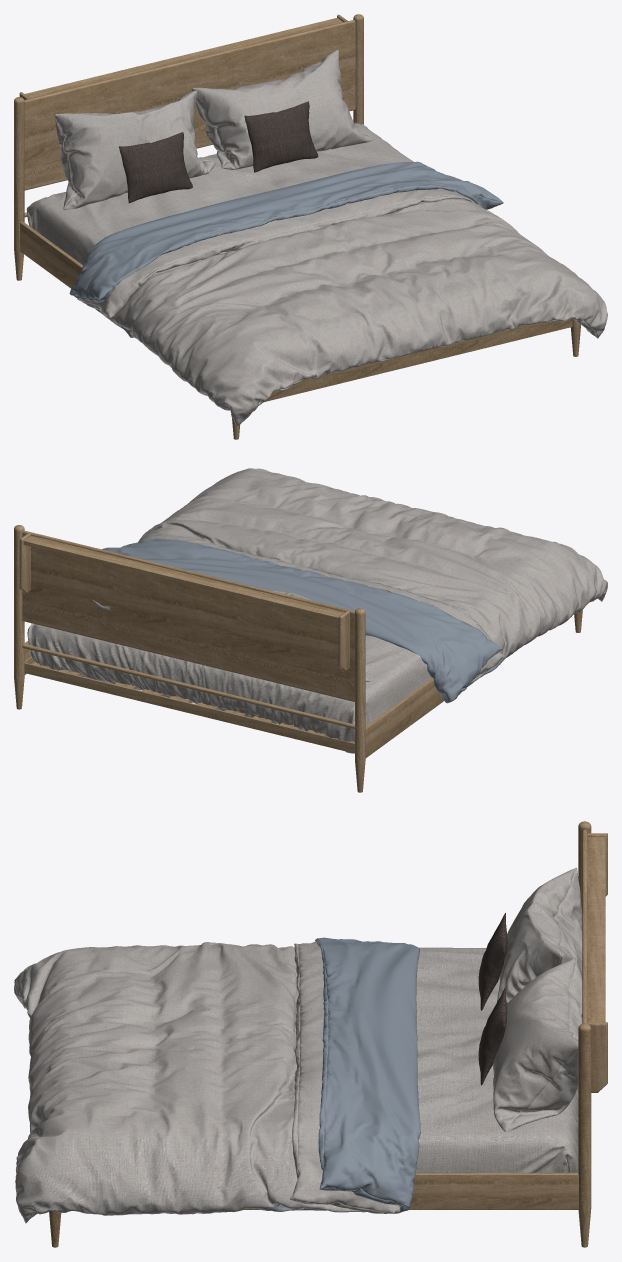
The model's file is BED-002.glb.
3 views of the same model, one above another, from view 1: azimuth 30°, elevation 25°; view 2: azimuth 150°, elevation 25°; view 3: azimuth 270°, elevation 25° (orthographic). The views are drawn at different scales.
Parts seen in each view (by area): view 1: Mesh1_Material__300w_0, Mesh2____SING________QQ___469733580___173_14_0, Mesh1_Material__611_0, Mesh5____SING________QQ___469733580___173_14_0, Mesh53_Material_1_0, Mesh52_Material_1_0, Mesh9____SING________QQ___469733580___173_14_0, Mesh3____SING________QQ___469733580___173_14_0, Mesh35____SING________QQ___469733580___173_14_0, Mesh34____SING________QQ___469733580___173_14_0; view 2: Mesh1_Material__300w_0, Mesh2____SING________QQ___469733580___173_14_0, Mesh1_Material__611_0, Mesh11____SING________QQ___469733580___173_14_0, Mesh9____SING________QQ___469733580___173_14_0, Mesh3____SING________QQ___469733580___173_14_0, Mesh35____SING________QQ___469733580___173_14_0, Mesh6____SING________QQ___469733580___173_14_0, Mesh34____SING________QQ___469733580___173_14_0, Mesh36____SING________QQ___469733580___173_14_0, Mesh37____SING________QQ___469733580___173_14_0; view 3: Mesh1_Material__300w_0, Mesh1_Material__611_0, Mesh4____SING________QQ___469733580___173_14_0, Mesh9____SING________QQ___469733580___173_14_0, Mesh34____SING________QQ___469733580___173_14_0, Mesh52_Material_1_0, Mesh53_Material_1_0, Mesh37____SING________QQ___469733580___173_14_0, Mesh2____SING________QQ___469733580___173_14_0.
Part boxes in pixels (bbox=[...]): Mesh1_Material__300w_0: bbox=[26, 50, 607, 426]; Mesh2____SING________QQ___469733580___173_14_0: bbox=[24, 20, 355, 190]; Mesh1_Material__611_0: bbox=[69, 161, 503, 340]; Mesh5____SING________QQ___469733580___173_14_0: bbox=[264, 318, 572, 401]; Mesh53_Material_1_0: bbox=[244, 101, 318, 172]; Mesh52_Material_1_0: bbox=[119, 132, 192, 203]; Mesh9____SING________QQ___469733580___173_14_0: bbox=[25, 17, 342, 98]; Mesh3____SING________QQ___469733580___173_14_0: bbox=[20, 222, 83, 288]; Mesh35____SING________QQ___469733580___173_14_0: bbox=[14, 97, 24, 280]; Mesh34____SING________QQ___469733580___173_14_0: bbox=[353, 14, 363, 124]; Mesh1_Material__300w_0: bbox=[27, 468, 607, 753]; Mesh2____SING________QQ___469733580___173_14_0: bbox=[22, 530, 354, 701]; Mesh1_Material__611_0: bbox=[102, 538, 523, 703]; Mesh11____SING________QQ___469733580___173_14_0: bbox=[24, 656, 354, 753]; Mesh9____SING________QQ___469733580___173_14_0: bbox=[23, 535, 344, 621]; Mesh3____SING________QQ___469733580___173_14_0: bbox=[365, 677, 443, 757]; Mesh35____SING________QQ___469733580___173_14_0: bbox=[355, 608, 365, 792]; Mesh6____SING________QQ___469733580___173_14_0: bbox=[22, 644, 354, 728]; Mesh34____SING________QQ___469733580___173_14_0: bbox=[14, 525, 24, 709]; Mesh36____SING________QQ___469733580___173_14_0: bbox=[338, 611, 349, 671]; Mesh37____SING________QQ___469733580___173_14_0: bbox=[19, 533, 30, 593]; Mesh1_Material__300w_0: bbox=[14, 868, 582, 1223]; Mesh1_Material__611_0: bbox=[217, 937, 420, 1213]; Mesh4____SING________QQ___469733580___173_14_0: bbox=[244, 1172, 578, 1209]; Mesh9____SING________QQ___469733580___173_14_0: bbox=[587, 837, 605, 1022]; Mesh34____SING________QQ___469733580___173_14_0: bbox=[578, 1023, 591, 1247]; Mesh52_Material_1_0: bbox=[478, 913, 507, 1010]; Mesh53_Material_1_0: bbox=[478, 987, 507, 1085]; Mesh37____SING________QQ___469733580___173_14_0: bbox=[587, 1022, 607, 1092]; Mesh2____SING________QQ___469733580___173_14_0: bbox=[582, 830, 587, 1023].
Size of the model in its own units: 22.26 by 9.5 by 23.05.
4 materials, 3 textured.
